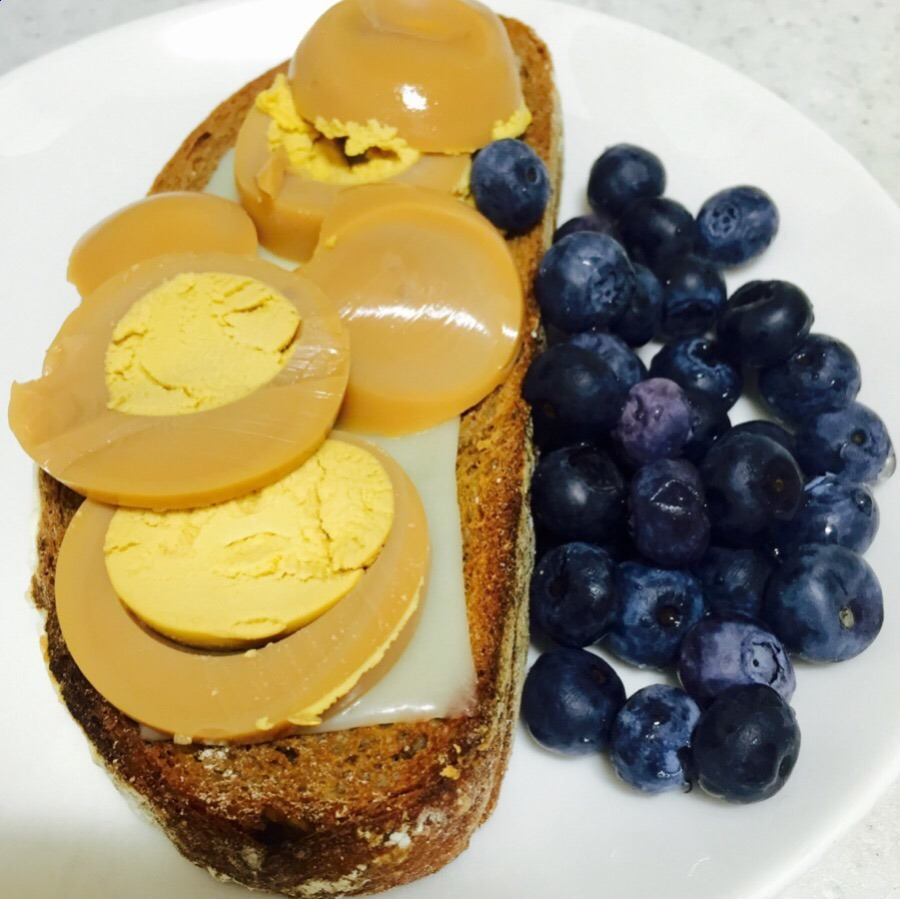slice of bread: (48, 1, 543, 893)
